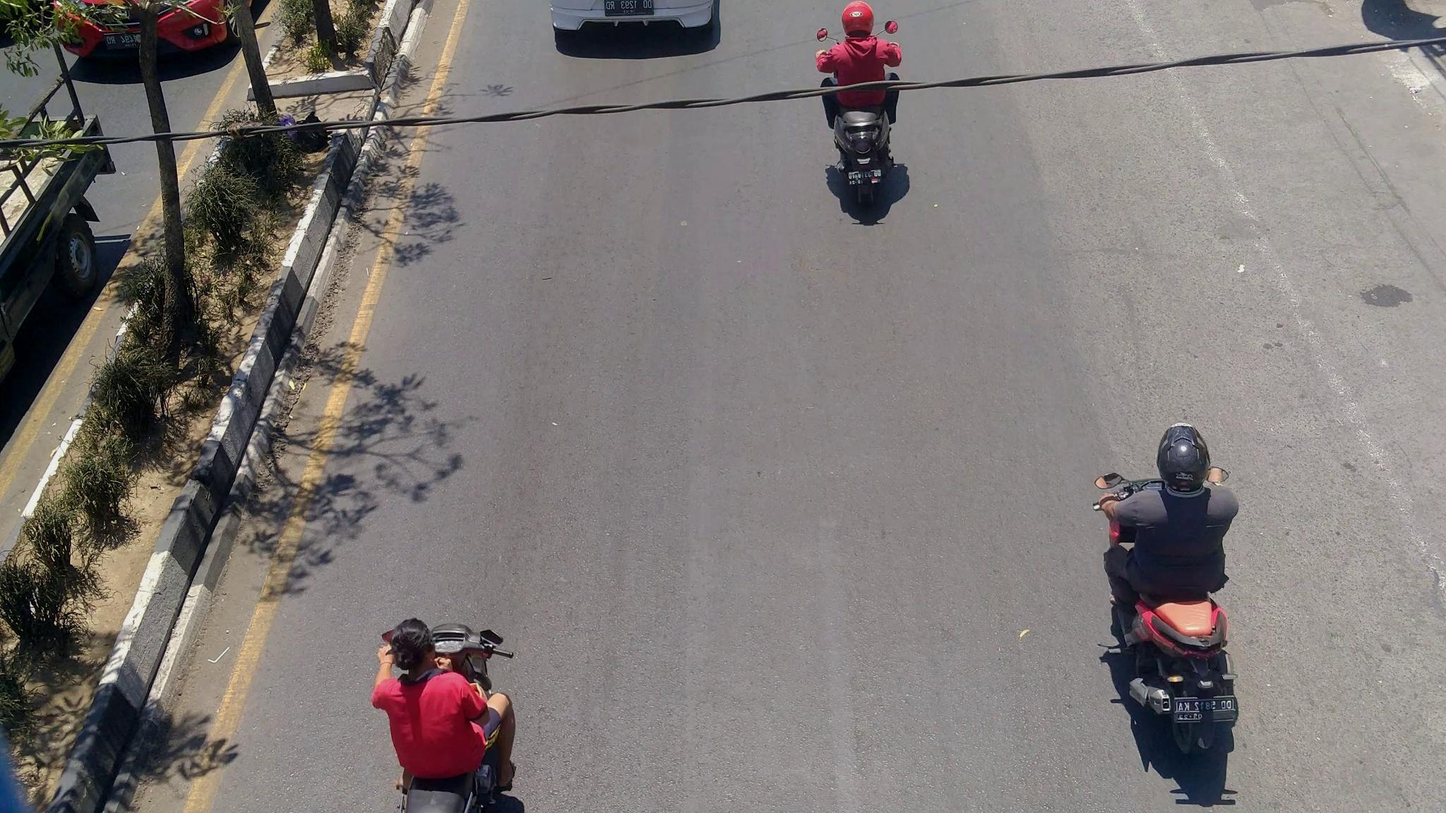Helmet: (1148, 419, 1220, 498), (835, 0, 880, 37)
bike: (1090, 459, 1245, 757), (377, 620, 517, 813), (815, 27, 906, 207)
no-helmet: (376, 609, 444, 675)
number-plate: (1171, 692, 1239, 722), (846, 168, 883, 186)
rider: (1100, 421, 1242, 630), (374, 615, 522, 798), (813, 3, 909, 128)
